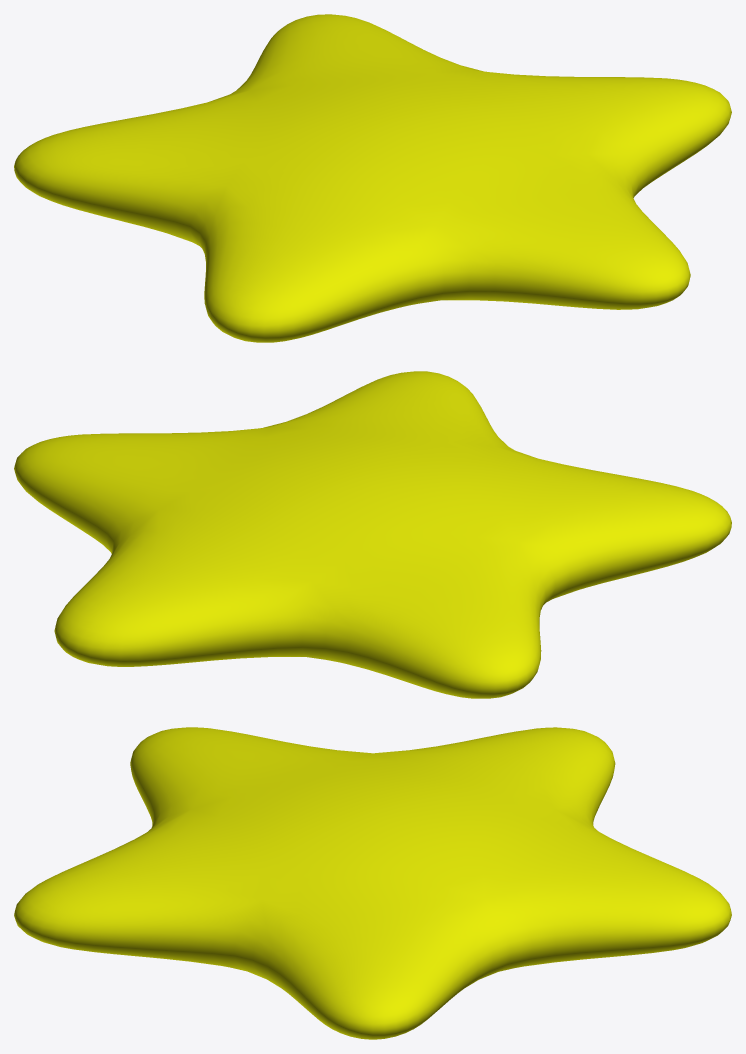
File: cle.fbx
The picture shows the model from 3 angles, top to bottom: view 1: azimuth 30°, elevation 25°; view 2: azimuth 150°, elevation 25°; view 3: azimuth 270°, elevation 25°; orthographic projection.
Parts seen in each view (by area): view 1: Sphere; view 2: Sphere; view 3: Sphere.
Boxes of the visible parts, left/top/right/bottom form: Sphere: left=14, top=14, right=731, bottom=342; Sphere: left=14, top=371, right=731, bottom=698; Sphere: left=14, top=727, right=731, bottom=1039.
Size of the model in its own units: 7.65 by 1.46 by 7.96.
